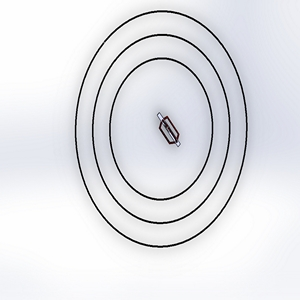circle: (69, 5, 259, 253)
submarine: (147, 104, 189, 153)
